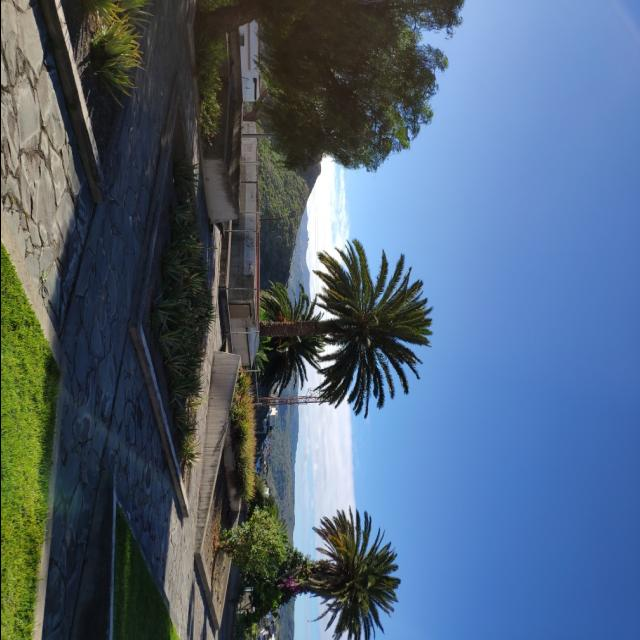Palm-Trees: (255, 236, 436, 422), (270, 508, 402, 640)
